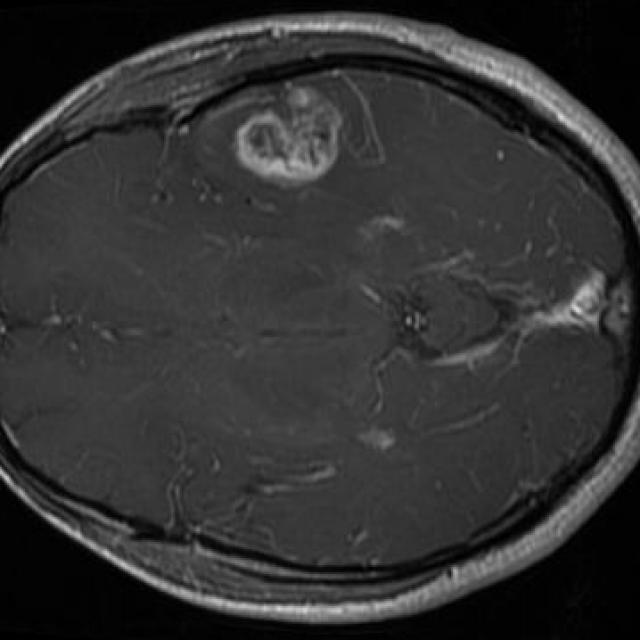glioma: (234, 84, 342, 189)
